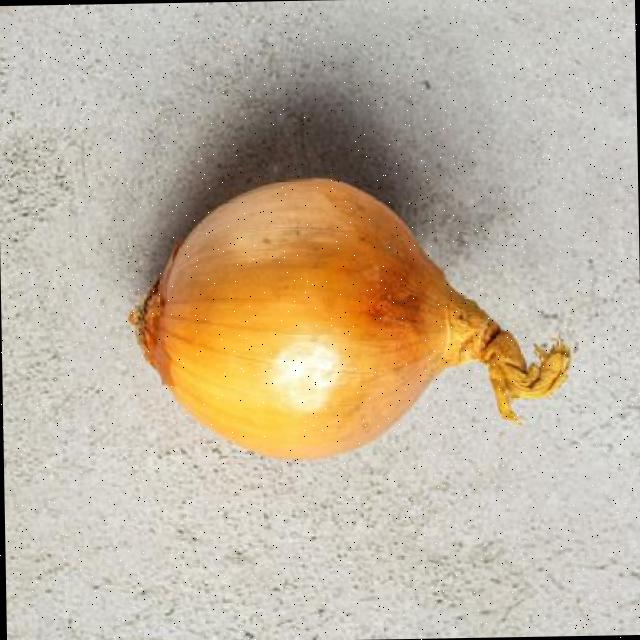Onion: (128, 178, 569, 459)
